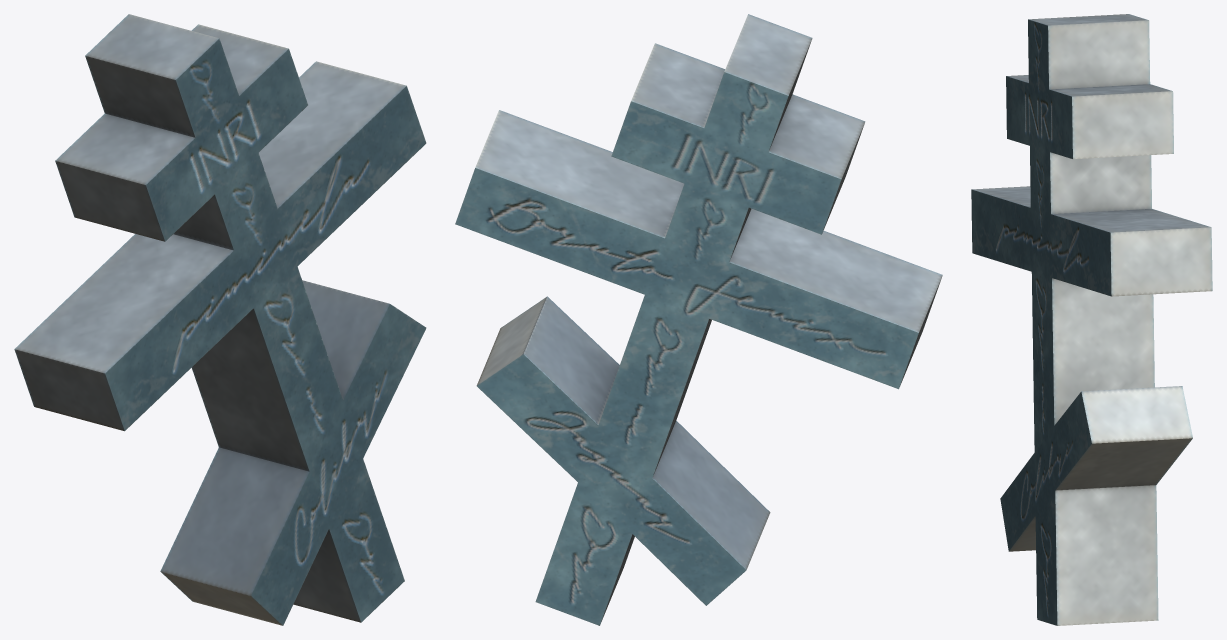
The picture shows the model from 3 angles, left to right: view 1: azimuth 30°, elevation 25°; view 2: azimuth 150°, elevation 25°; view 3: azimuth 270°, elevation 25°; orthographic projection. The views are drawn at different scales.
Parts seen in each view (by area): view 1: Cruz_Orto_Cube.011; view 2: Cruz_Orto_Cube.011; view 3: Cruz_Orto_Cube.011.
Part boxes in pixels (<box>): Cruz_Orto_Cube.011: <box>14,14,426,625</box>; Cruz_Orto_Cube.011: <box>455,14,942,625</box>; Cruz_Orto_Cube.011: <box>971,14,1212,625</box>.
Bounding box in the file's own units: 1.97 × 2.69 × 1.08.
